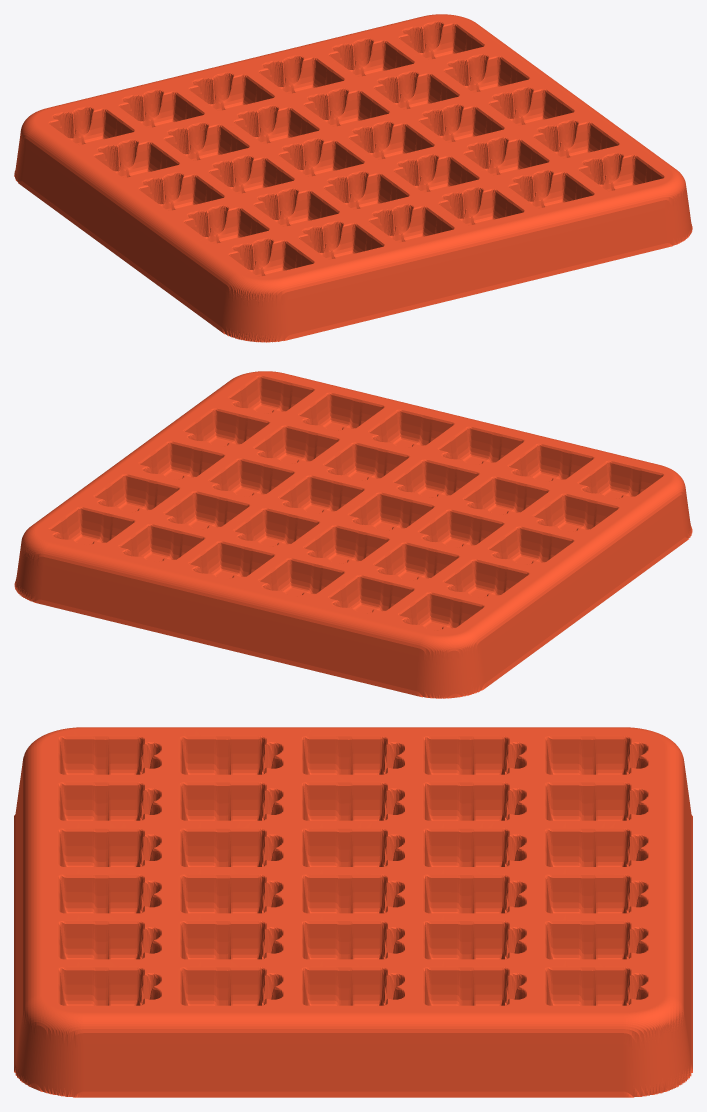
Rendered from mold.glb.
The picture shows the model from 3 angles, top to bottom: view 1: azimuth 30°, elevation 25°; view 2: azimuth 150°, elevation 25°; view 3: azimuth 270°, elevation 25°; orthographic projection. The views are drawn at different scales.
Visible parts, largest first — view 1: geometry_0; view 2: geometry_0; view 3: geometry_0.
Boxes of the visible parts, x1,y1,x2,y2 form: geometry_0: (14, 14, 692, 342); geometry_0: (14, 371, 692, 698); geometry_0: (14, 727, 692, 1097).
Bounding box in the file's own units: 0.0944 × 0.0105 × 0.0882.
